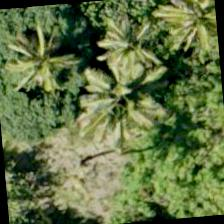Kelapa_Sawit: (69, 20, 168, 119), (46, 18, 144, 116), (0, 7, 92, 106), (113, 0, 211, 86), (128, 0, 218, 52)
